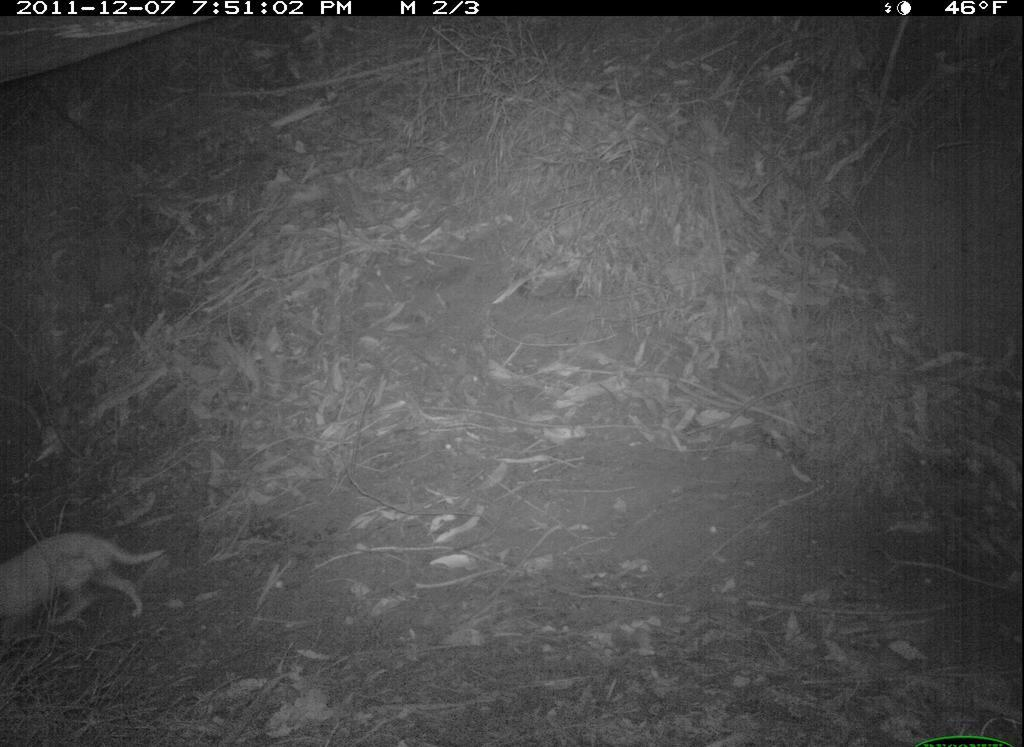dog: (2, 513, 172, 647)
